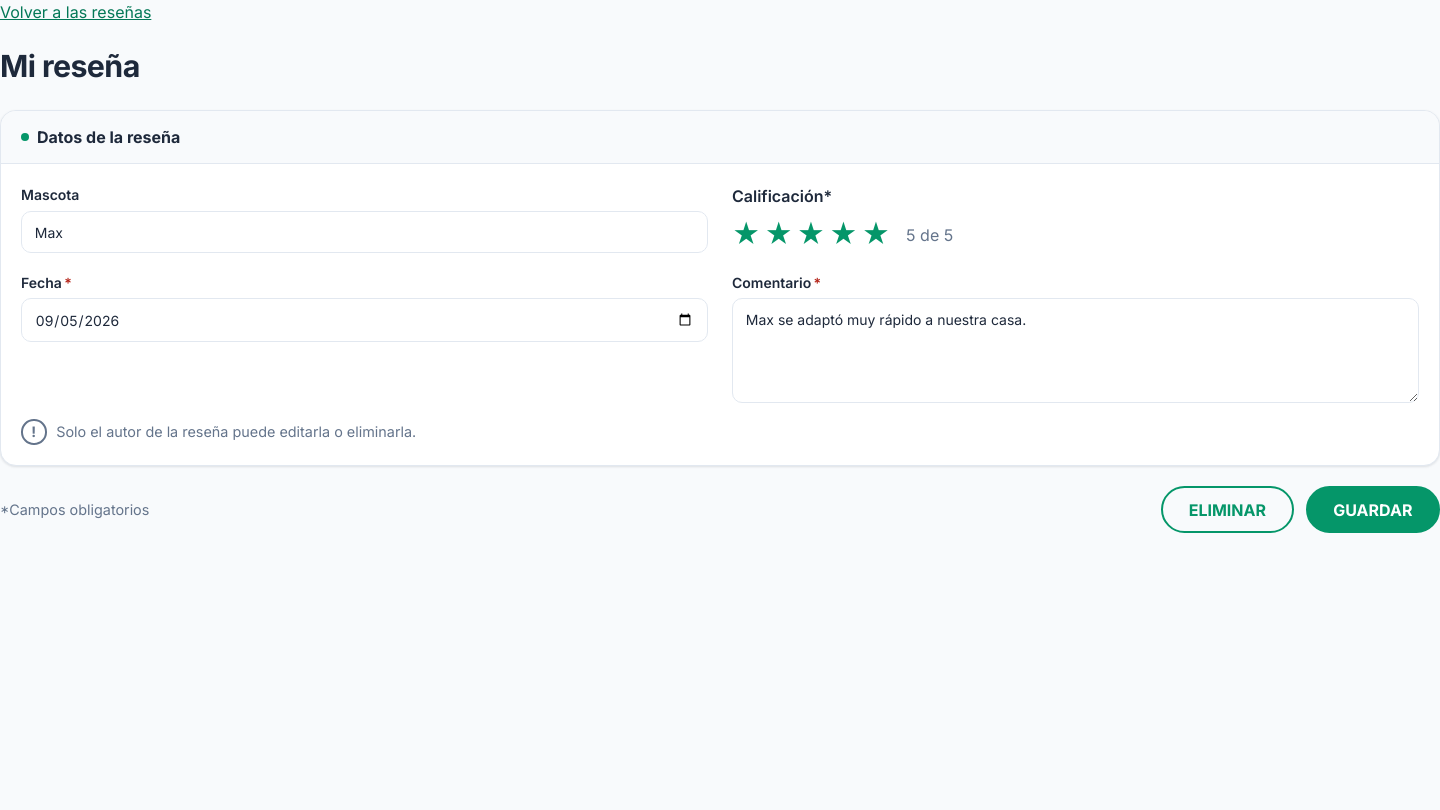
Scenario: EditReviewPage › shows the back-end error when someone else tries to edit it
Expected: the form named "Edición de reseña" is shown, [0, 110, 1439, 533]
Click the button "Guardar" at (1373, 510), box [1306, 486, 1439, 533]
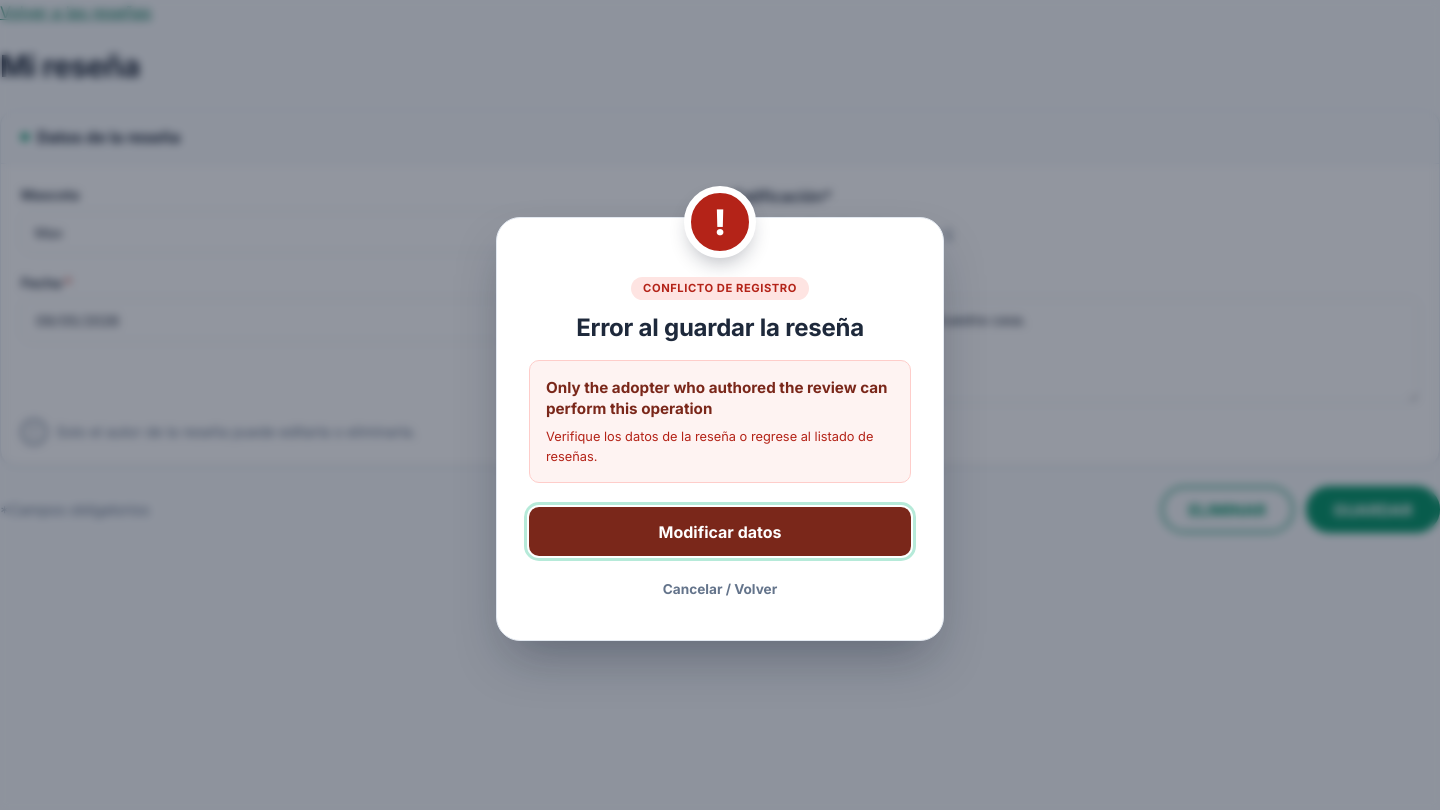
Now the dialog shows "Only the adopter", box [546, 378, 888, 418]
